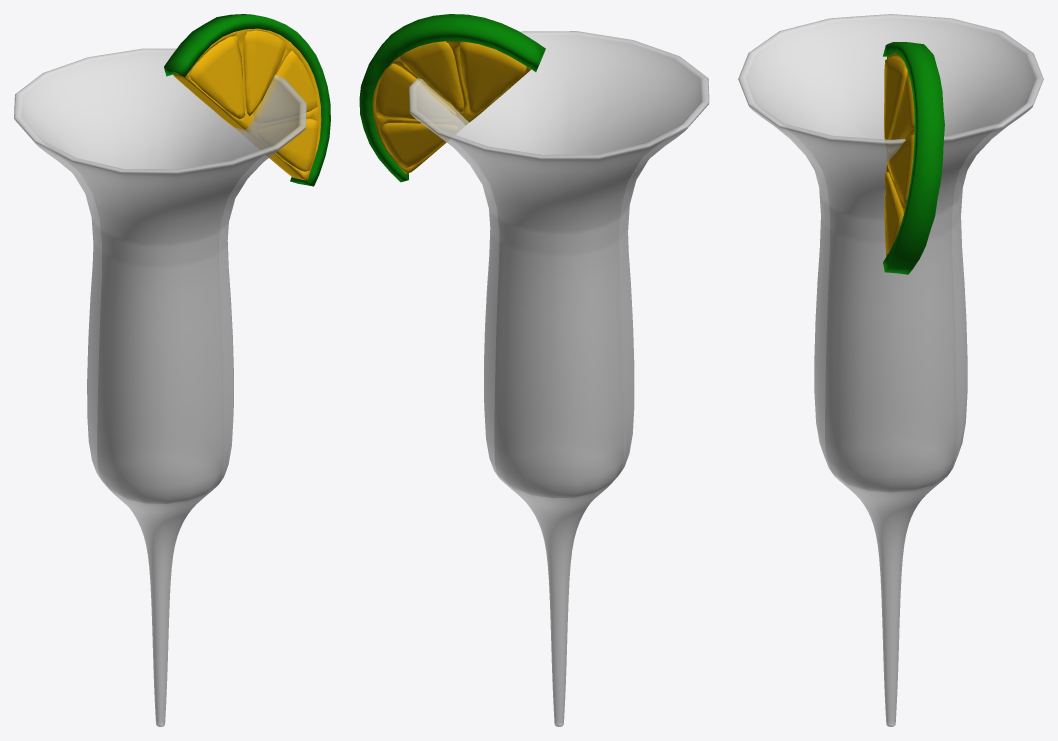
Rendered from cocktail_barrel.fbx.
The picture shows the model from 3 angles, left to right: view 1: azimuth 30°, elevation 25°; view 2: azimuth 150°, elevation 25°; view 3: azimuth 270°, elevation 25°; orthographic projection. The views are drawn at different scales.
Parts seen in each view (by area): view 1: cocktail_barrel; view 2: cocktail_barrel; view 3: cocktail_barrel.
Part boxes in pixels (<box>): cocktail_barrel: <box>14,14,330,726</box>; cocktail_barrel: <box>359,14,709,726</box>; cocktail_barrel: <box>738,14,1043,726</box>.
Size of the model in its own units: 0.3909 by 0.835 by 0.3239.
